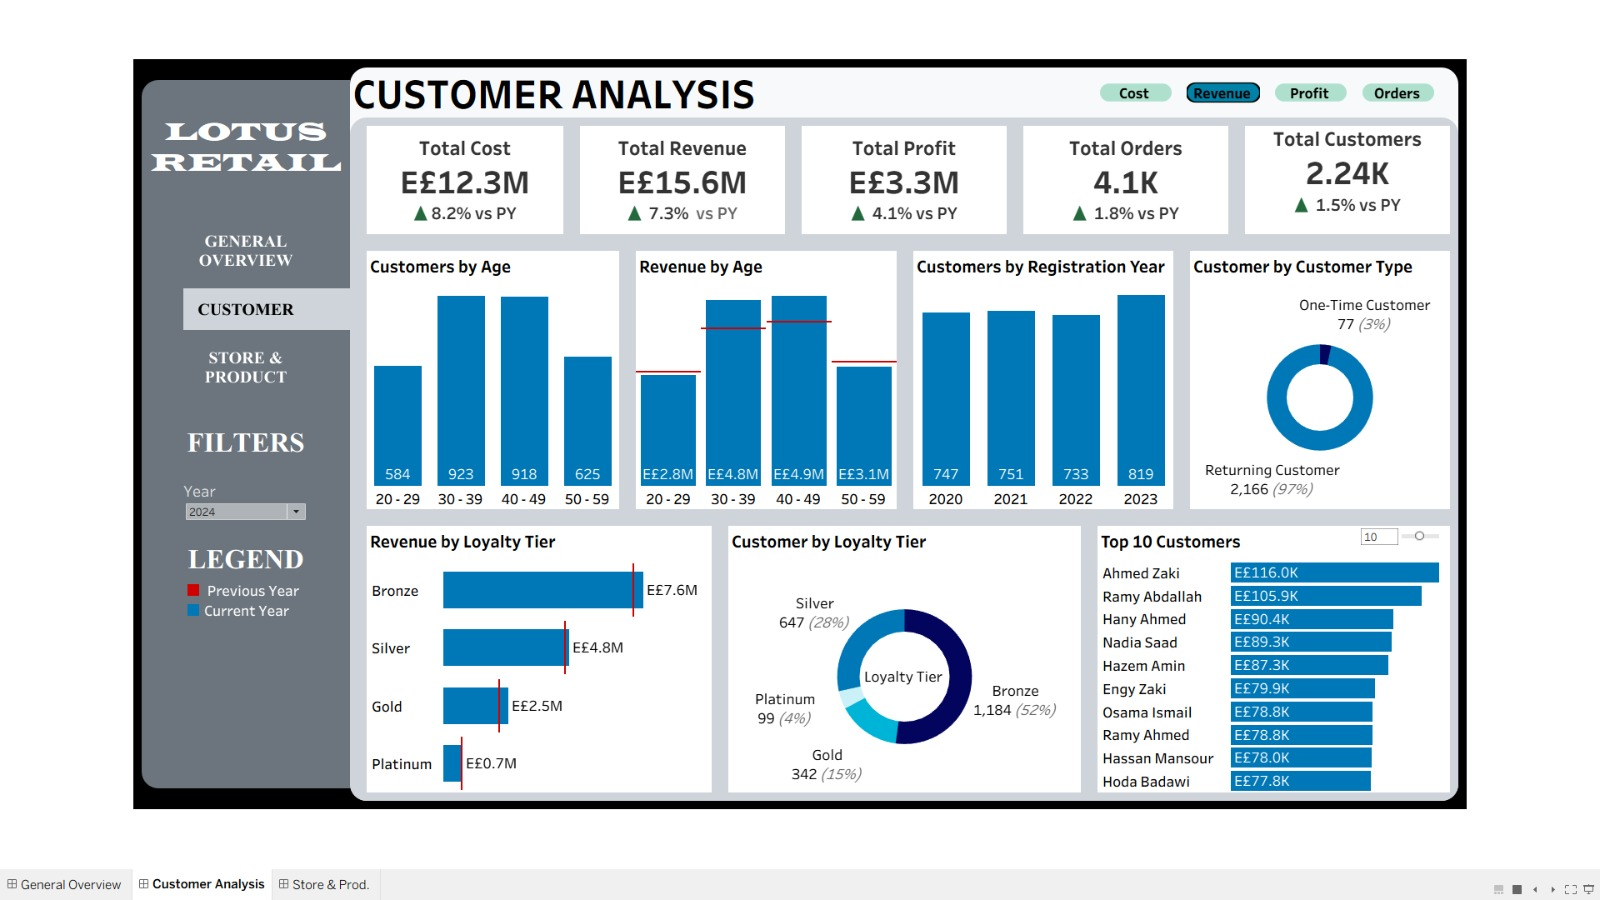

What the dashboard file says about the page in this screenshot:
{"tool":"tableau","page":{"name":"Customer Analysis","canvas":[1600,900],"ordinal":0},"visuals":[{"type":"text","box":[260,10,890,60]},{"type":"worksheet","title":"Buttons","mark":"Shape","cols":["Calculation_0874970443321350","Calculation_0874970443321350","Calculation_0874970443321350","Calculation_0874970443321350"],"box":[1150,10,420,60]},{"type":"blank","box":[10,25,250,10]},{"type":"text","box":[10,35,250,140]},{"type":"worksheet","title":"Cost","mark":"Automatic","box":[280,80,236,130]},{"type":"worksheet","title":"Rev.","mark":"Automatic","box":[536,80,246,130]},{"type":"worksheet","title":"Profit","mark":"Automatic","box":[802,80,246,130]},{"type":"worksheet","title":"Orders","mark":"Automatic","box":[1068,80,246,130]},{"type":"worksheet","title":"Total Customers","mark":"Automatic","box":[1334,80,246,130]},{"type":"blank","box":[10,175,250,30]},{"type":"dashboard-object","box":[60,205,150,50]},{"type":"worksheet","title":"Cus by Age","mark":"Automatic","rows":["customer_id"],"cols":["Age (bin)"],"box":[280,230,303,310]},{"type":"worksheet","title":"Age","mark":"Automatic","rows":["Calculation_0373592491970560","Calculation_0373592493252610"],"cols":["Age (bin)"],"box":[603,230,313,310]},{"type":"worksheet","title":"Customer Join Date","mark":"Bar","rows":["customer_id"],"cols":["registration_date"],"box":[936,230,312,310]},{"type":"worksheet","title":"Customer Type","mark":"Pie","cols":["Calculation_1225439418195977","Calculation_1225439418195977"],"box":[1268,230,312,310]},{"type":"blank","box":[10,255,250,20]},{"type":"dashboard-object","box":[60,275,200,50]},{"type":"blank","box":[10,325,250,20]},{"type":"dashboard-object","box":[60,345,150,50]},{"type":"blank","box":[10,395,250,50]},{"type":"text","box":[10,445,250,30]},{"type":"blank","box":[10,475,250,30]},{"type":"parameter","param":"[Parameters].[Parameter 1297182227197959]","box":[60,505,150,50]},{"type":"blank","box":[10,555,250,30]},{"type":"worksheet","title":"Loyalty Tier","mark":"Automatic","rows":["loyalty_tier"],"cols":["Calculation_0373592491970560","Calculation_0373592493252610"],"box":[280,560,414,320]},{"type":"worksheet","title":"Loyalty Tier by Cus.","mark":"Pie","rows":["Calculation_1225439412301825","Calculation_1225439412301825"],"box":[714,560,423,320]},{"type":"worksheet","title":"Top Customers","mark":"Automatic","rows":["full_name"],"cols":["Calculation_1297182227521545"],"box":[1157,560,423,320]},{"type":"parameter","param":"[Parameters].[Parameter 1225439415734277]","box":[1470,560,100,35]},{"type":"text","box":[10,585,250,30]},{"type":"blank","box":[10,615,250,10]},{"type":"legend","title":"Loyalty Tier","param":"[federated.0mt75gr1jol0vg19zrq0202gwl9p].[:Measure Names]","box":[60,625,150,50]}]}

Visuals, with their boxes on the page's 1600x900 design canvas (x1, y1, x2, y2). These are canvas units, not pixel positions in the 1600x900 screenshot, which may show the page scaled, cropped or inside an application window:
text: locate(260, 10, 1150, 70)
"Buttons" worksheet (Shape marks): locate(1150, 10, 1570, 70)
blank: locate(10, 25, 260, 35)
text: locate(10, 35, 260, 175)
"Cost" worksheet: locate(280, 80, 516, 210)
"Rev." worksheet: locate(536, 80, 782, 210)
"Profit" worksheet: locate(802, 80, 1048, 210)
"Orders" worksheet: locate(1068, 80, 1314, 210)
"Total Customers" worksheet: locate(1334, 80, 1580, 210)
blank: locate(10, 175, 260, 205)
dashboard-object: locate(60, 205, 210, 255)
"Cus by Age" worksheet: locate(280, 230, 583, 540)
"Age" worksheet: locate(603, 230, 916, 540)
"Customer Join Date" worksheet (Bar marks): locate(936, 230, 1248, 540)
"Customer Type" worksheet (Pie marks): locate(1268, 230, 1580, 540)
blank: locate(10, 255, 260, 275)
dashboard-object: locate(60, 275, 260, 325)
blank: locate(10, 325, 260, 345)
dashboard-object: locate(60, 345, 210, 395)
blank: locate(10, 395, 260, 445)
text: locate(10, 445, 260, 475)
blank: locate(10, 475, 260, 505)
parameter: locate(60, 505, 210, 555)
blank: locate(10, 555, 260, 585)
"Loyalty Tier" worksheet: locate(280, 560, 694, 880)
"Loyalty Tier by Cus." worksheet (Pie marks): locate(714, 560, 1137, 880)
"Top Customers" worksheet: locate(1157, 560, 1580, 880)
parameter: locate(1470, 560, 1570, 595)
text: locate(10, 585, 260, 615)
blank: locate(10, 615, 260, 625)
"Loyalty Tier" legend: locate(60, 625, 210, 675)
